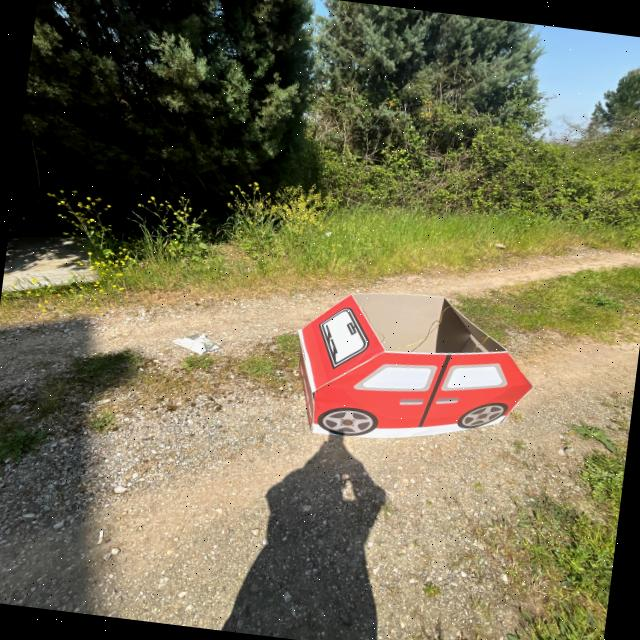red_car: (278, 268, 560, 478)
